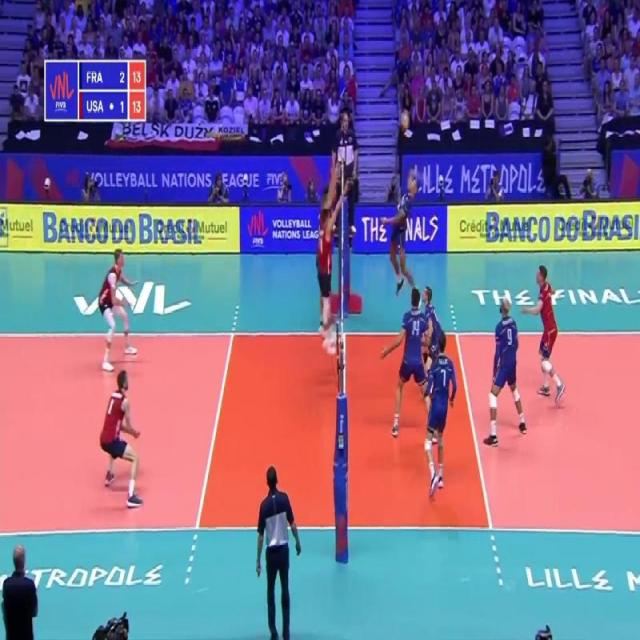volleyball: (401, 111, 409, 127)
